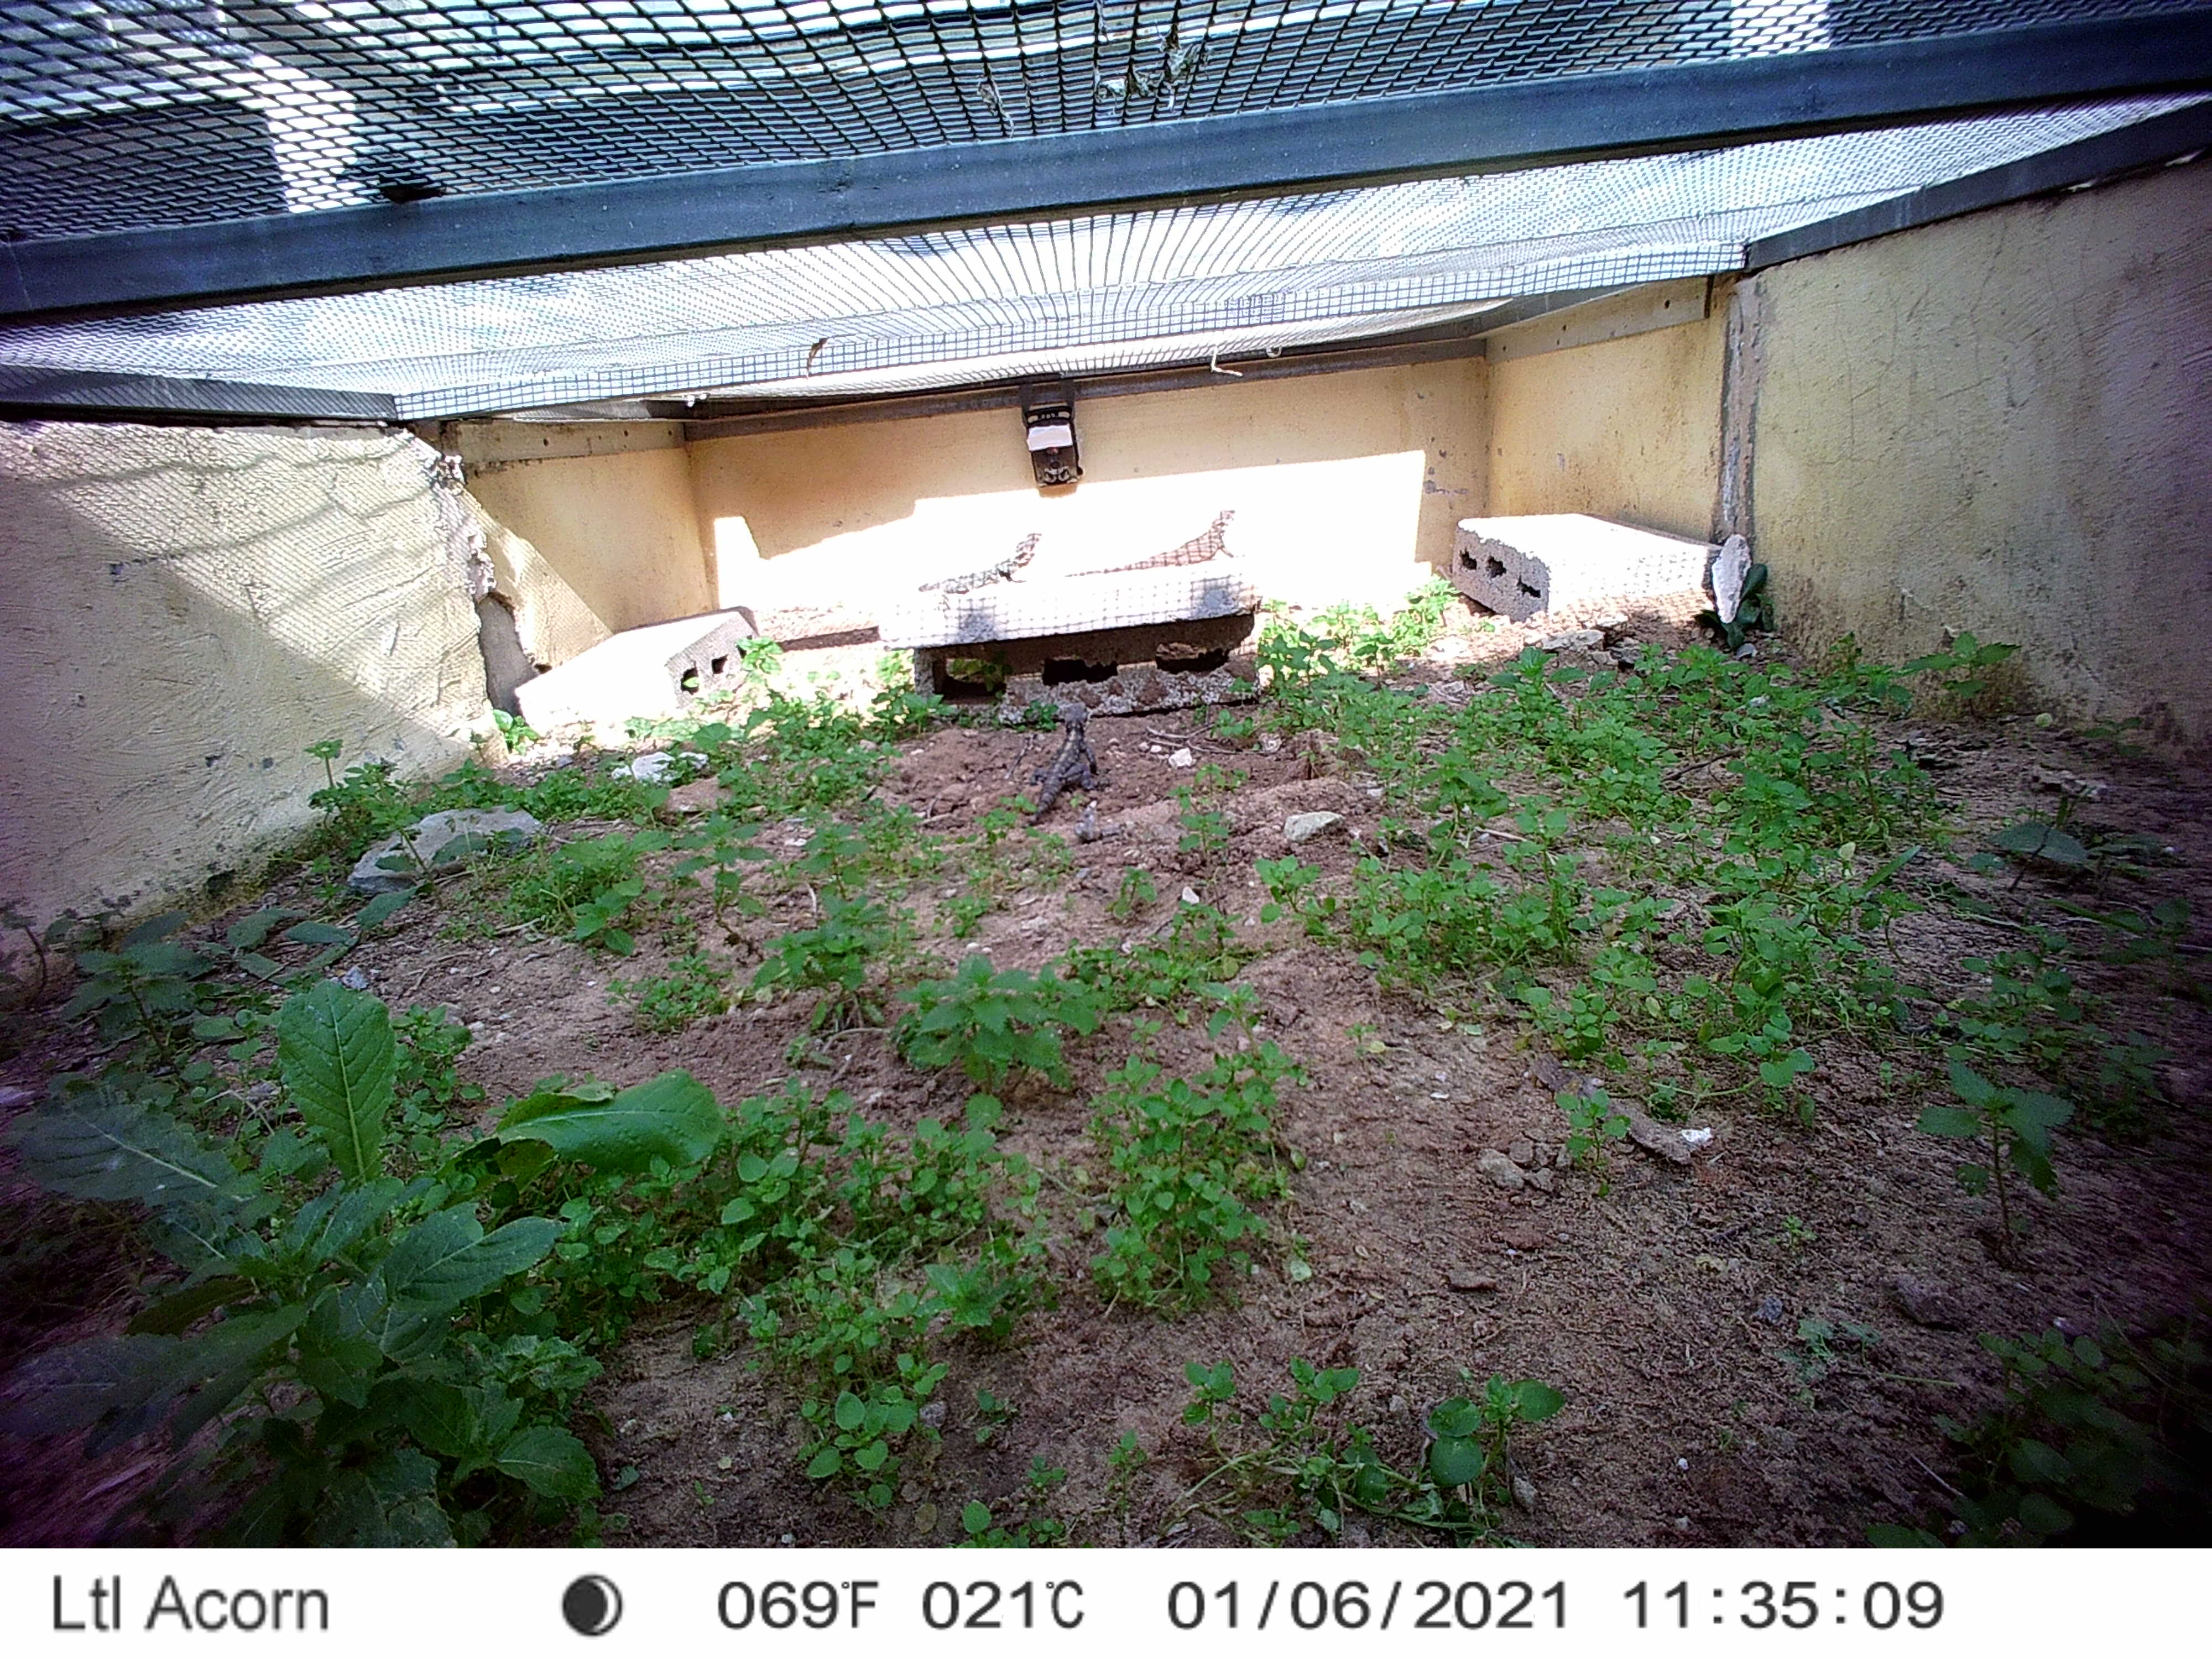lizard: (993, 697, 1103, 835), (1061, 505, 1240, 582), (906, 526, 1045, 615)
